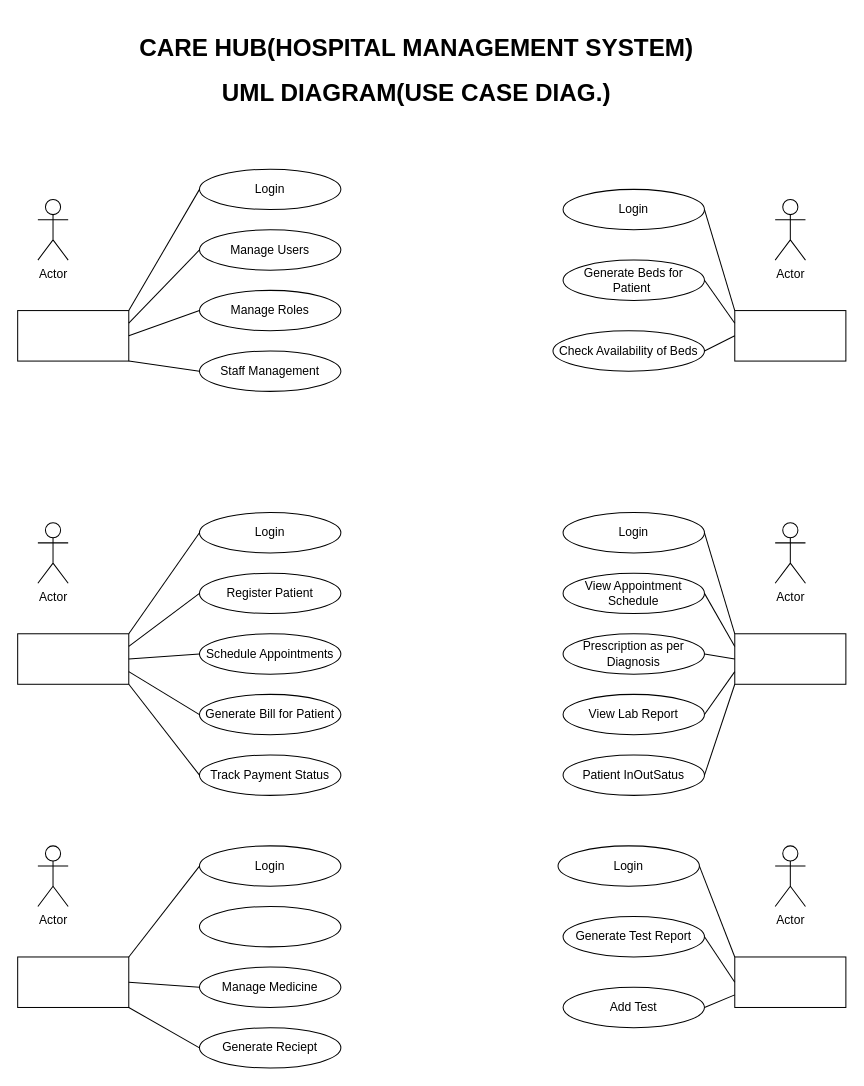
Some shapes in this 864 by 1086 pixel diagram are drawn without their labels. The centre of each missing label's shape, as x and y in pixels:
"Admin" belongs at point 73,335.
"Doctor" belongs at point 790,658.
"Lab Incharge" belongs at point 790,981.
"Manage Medical Inventory" belongs at point 269,926.
"Pharmacist" belongs at point 73,981.
"Receptionist" belongs at point 73,658.
"Ward Incharge" belongs at point 790,335.
